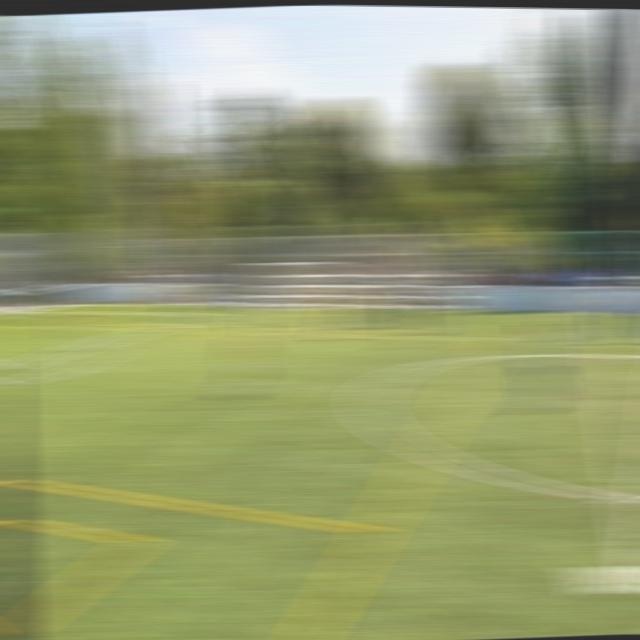bigarea_top_inner: (194, 308, 223, 322)
bigarea_top_outter: (30, 307, 60, 318)
corner: (70, 301, 100, 308)
halfcircle_bottom: (603, 477, 640, 519)
halfcircle_top: (591, 344, 628, 367)
midline_top_intersection: (588, 307, 617, 319)
top_arc_area_intersection: (88, 332, 120, 350)
